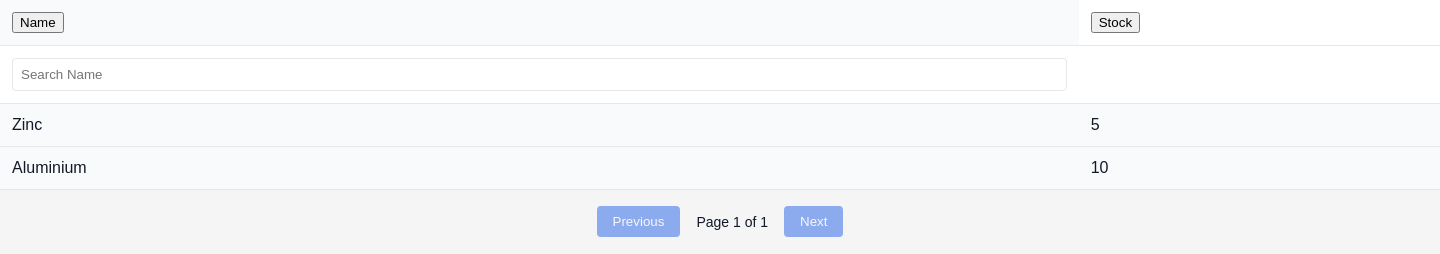
Scenario: DataTable › sorts data when header is clicked
Click the button "Name": (38,22) [12,12,64,33]
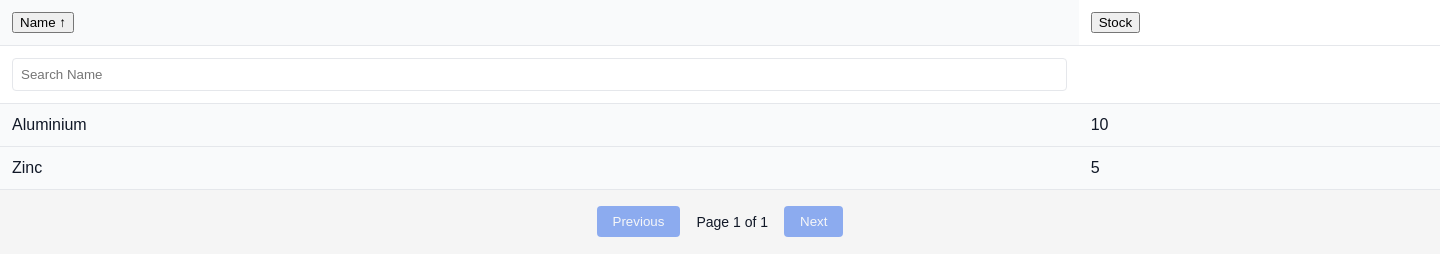
Expected: the text "Aluminium" is shown, [0,104,1079,146]
